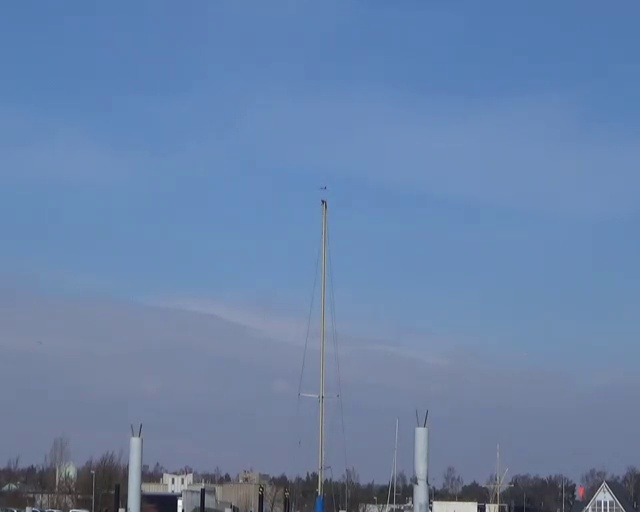BIRD: (69, 360, 80, 373)
